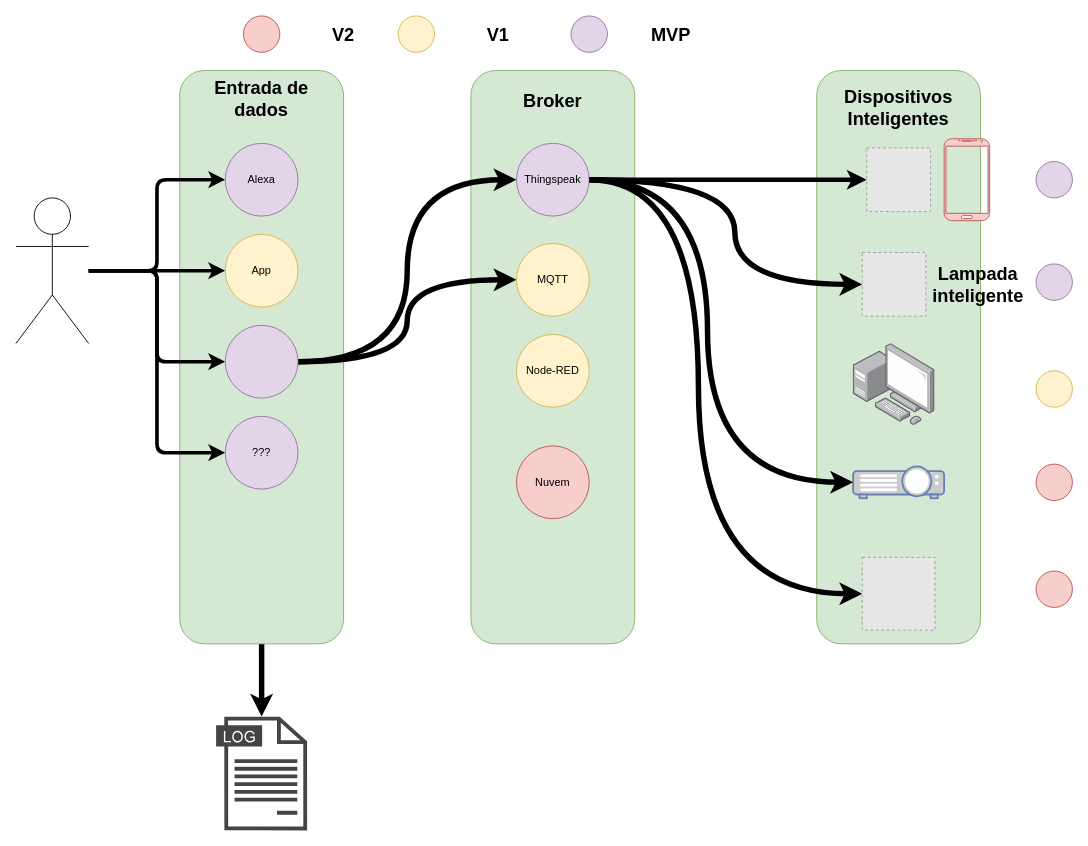
Some shapes in this 1088 by 846 pixel diagram are drawn without their labels. Grey dashed boxes stand in for pictures. Here are the shapes that lost their labels. From the top down, the centre of each, then its label:
(x=52, y=270): Actor
(x=261, y=361): App Python
